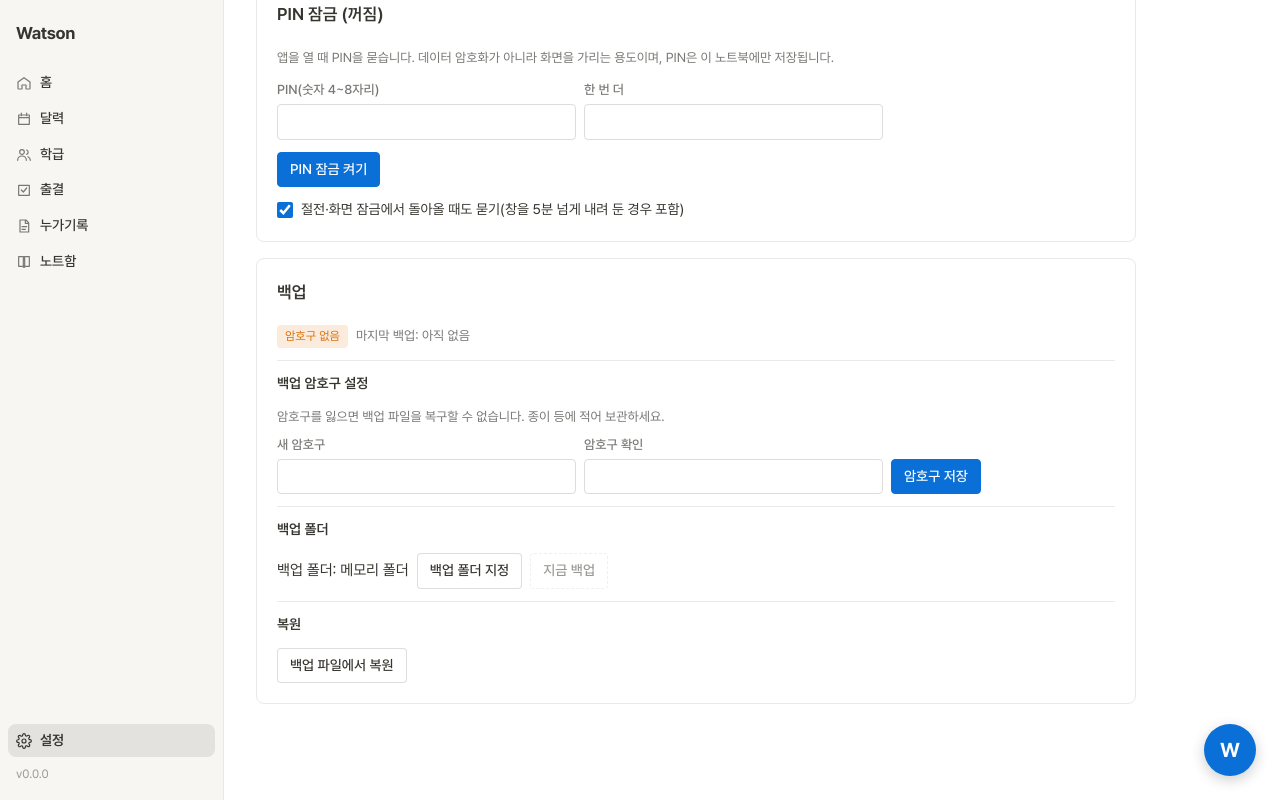
Test case: 설정에서 암호구를 저장하면 배너가 바로 사라진다
(page scrolled)
Type "우리반암호구2026" into the password field labelled "새 암호구" at x=426, y=477, box [277, 459, 576, 494]
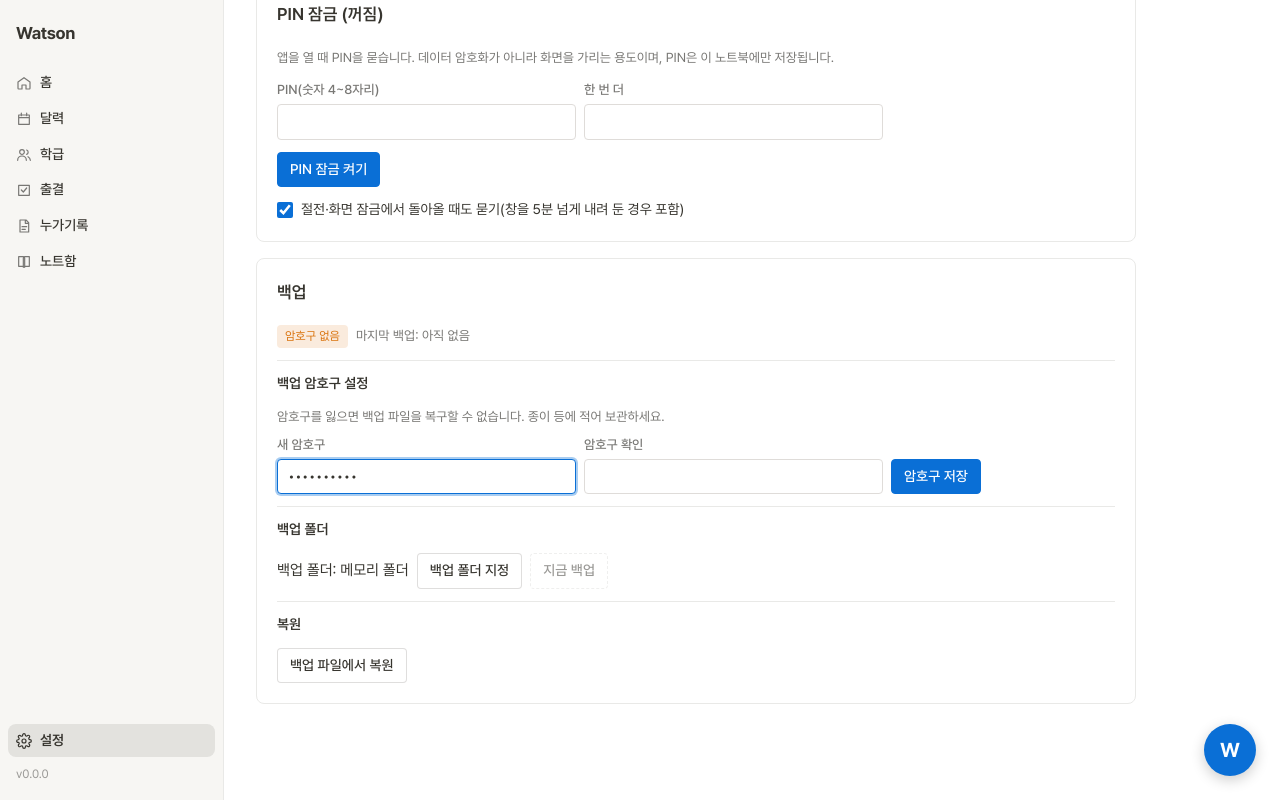
Type "우리반암호구2026" into the password field labelled "암호구 확인" at x=734, y=477, box [584, 459, 883, 494]
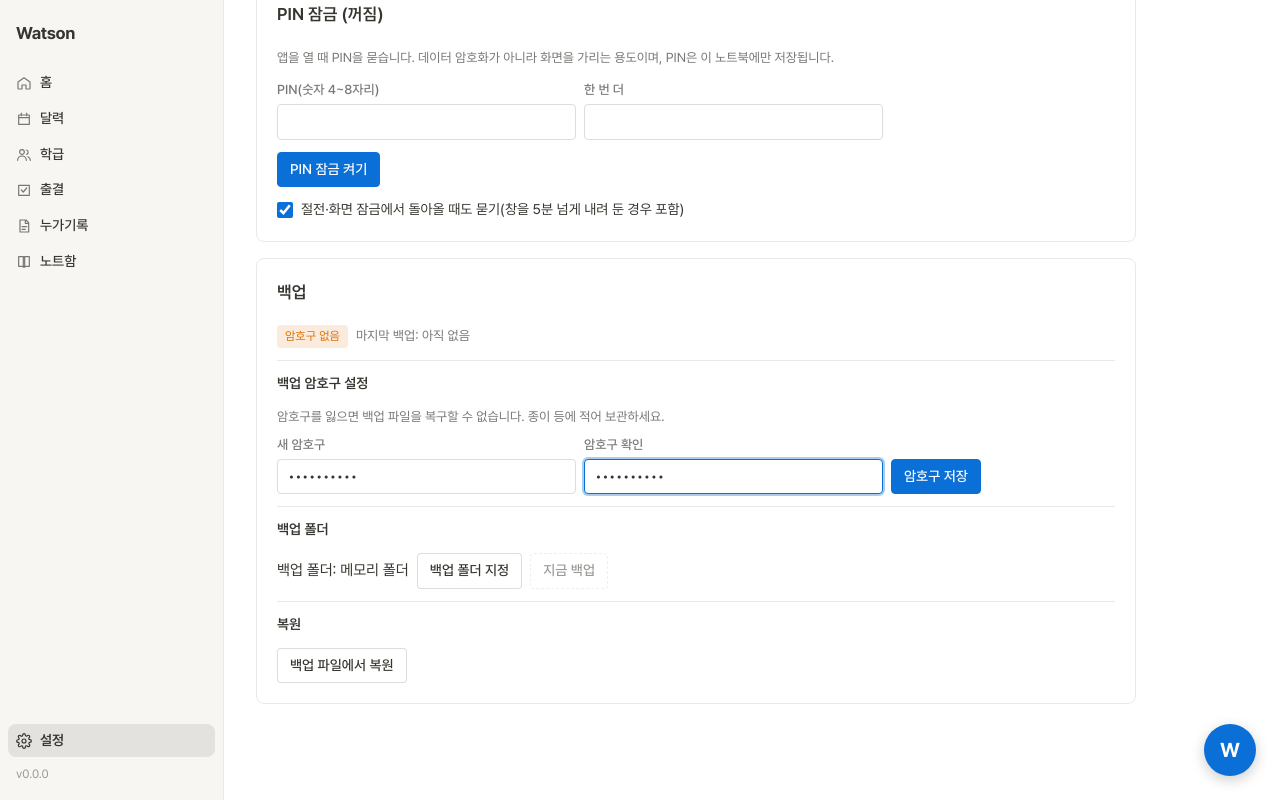
Click the button "암호구 저장" at x=936, y=477, box [891, 459, 981, 494]
(page scrolled)
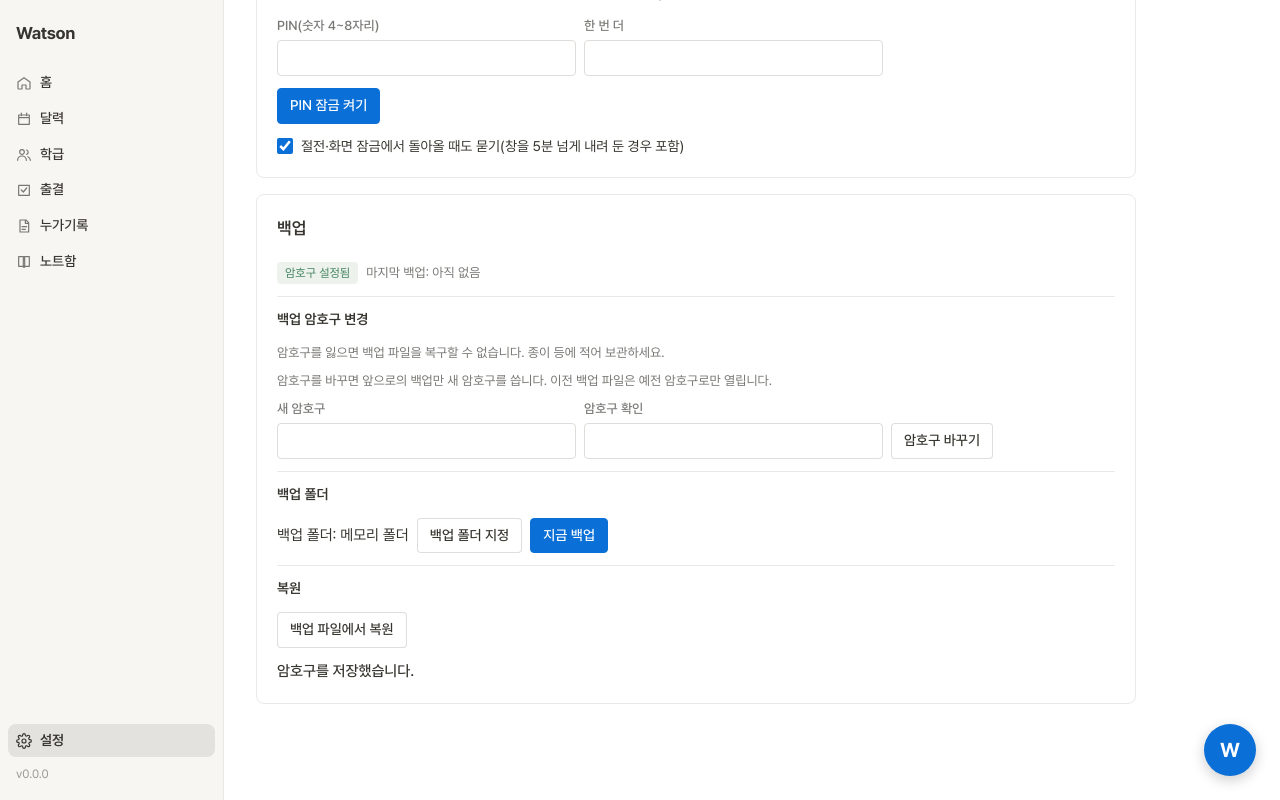
Result: the text "암호구를 저장했습니다." is shown at [277, 660, 414, 683]
